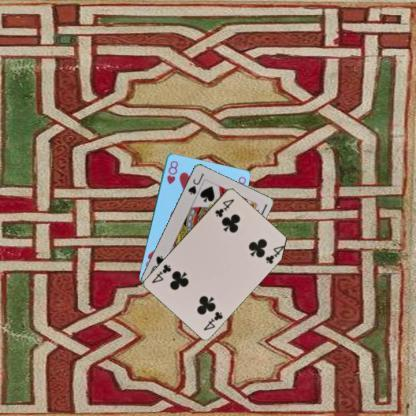4c: (200, 309, 224, 332), (212, 196, 235, 218)
8h: (164, 158, 179, 186)
Js: (186, 170, 206, 196)
